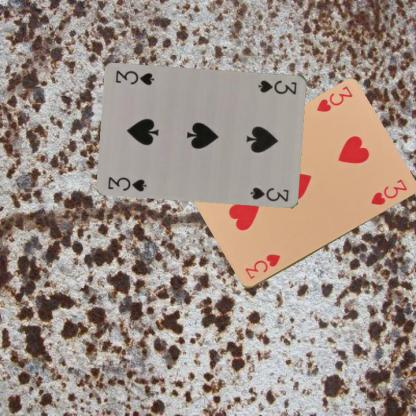3h: (314, 83, 354, 114), (242, 251, 282, 281)
3s: (256, 78, 298, 96), (106, 174, 148, 192)
